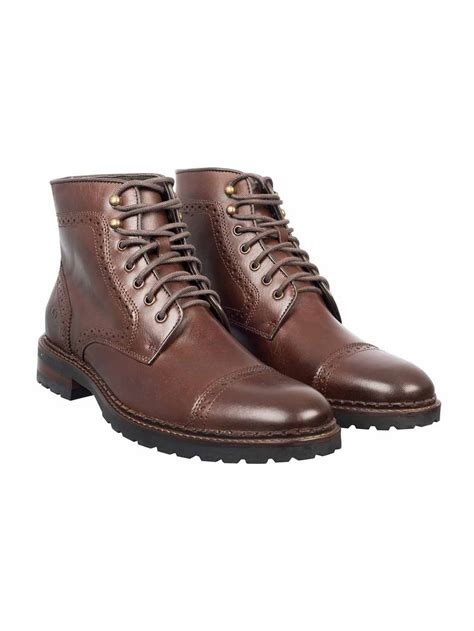cuero: (34, 166, 436, 443)
